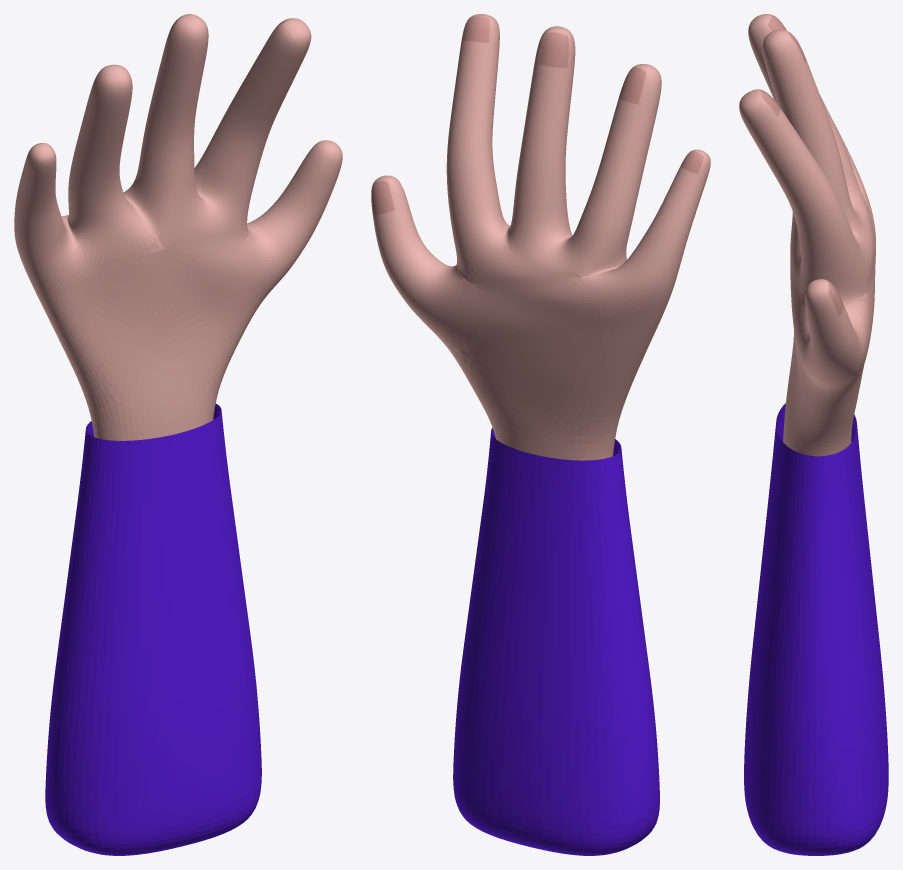
The model's file is coin_chaser_hands1.fbx.
3 views of the same model, side by side, from view 1: azimuth 30°, elevation 25°; view 2: azimuth 150°, elevation 25°; view 3: azimuth 270°, elevation 25° (orthographic). The views are drawn at different scales.
Parts seen in each view (by area): view 1: Cube; view 2: Cube; view 3: Cube.
Part boxes in pixels (<box>): Cube: <box>14,14,342,855</box>; Cube: <box>371,14,710,855</box>; Cube: <box>739,14,888,855</box>.
Bounding box in the file's own units: 771 × 1839 × 310.
